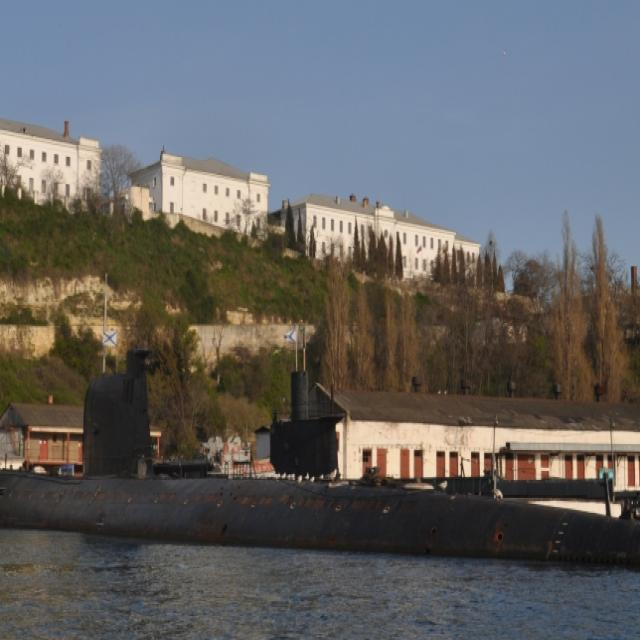submarine: (1, 351, 640, 572)
